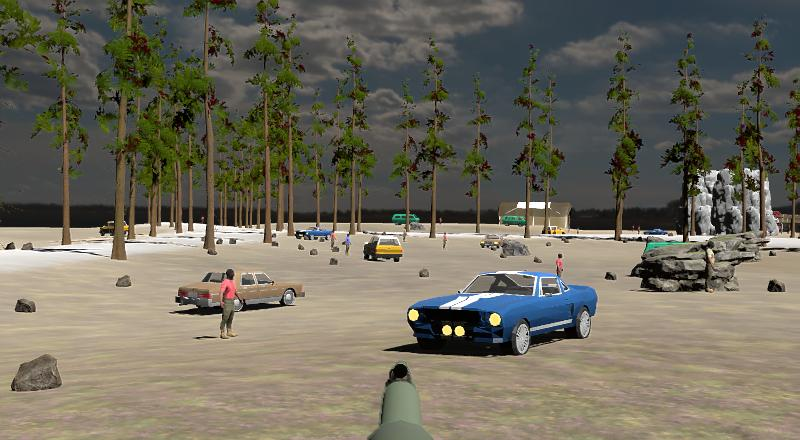Human: (217, 267, 245, 341), (702, 241, 718, 296), (343, 233, 354, 258), (441, 232, 450, 251)
car: (405, 267, 601, 359), (173, 266, 307, 315), (361, 233, 406, 264), (97, 217, 132, 239), (479, 232, 514, 251), (295, 226, 334, 243), (390, 211, 422, 229), (499, 214, 528, 229)
